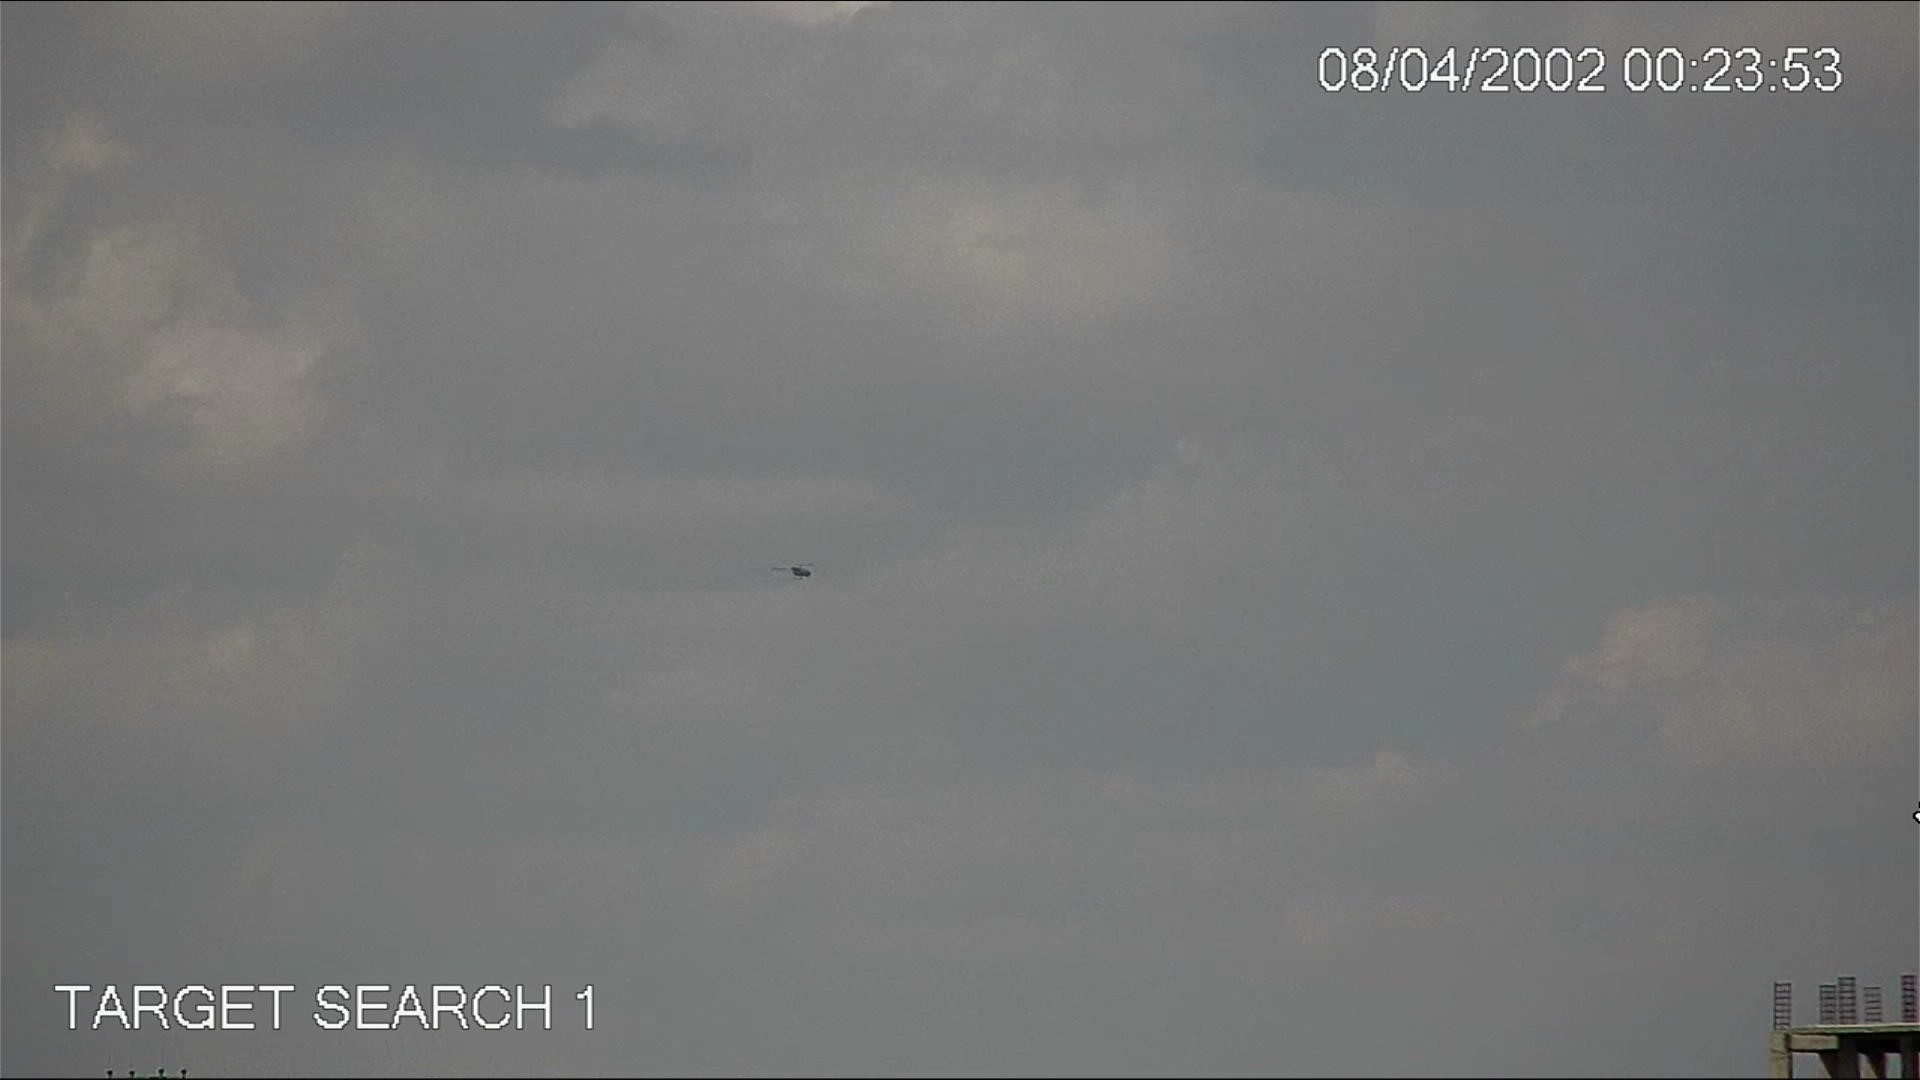SU_30: (767, 559, 820, 585)
